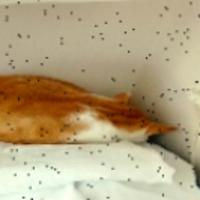asleep: (0, 74, 179, 144)
